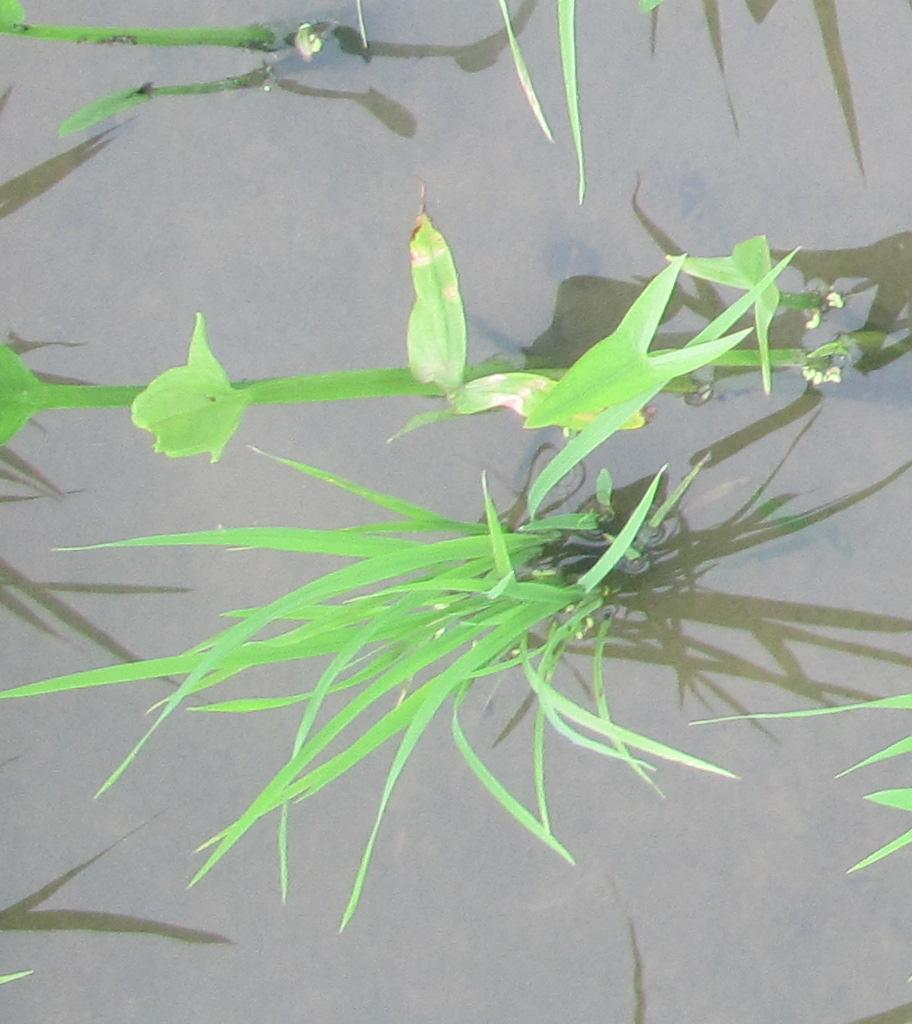Weed: (399, 219, 874, 419), (128, 327, 382, 474)
